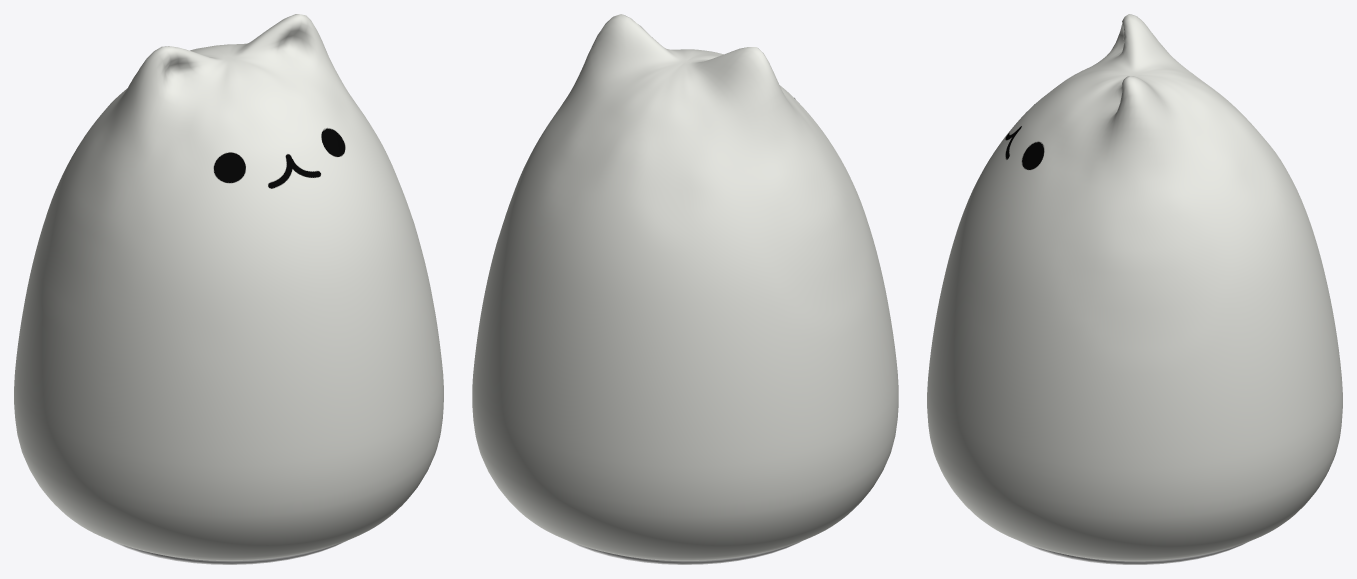
Rendered from cat.glb.
3 views of the same model, side by side, from view 1: azimuth 30°, elevation 25°; view 2: azimuth 150°, elevation 25°; view 3: azimuth 270°, elevation 25° (orthographic). The views are drawn at different scales.
Parts seen in each view (by area): view 1: Body, Base; view 2: Body, Base; view 3: Body, Base.
Boxes of the visible parts, x1,y1,x2,y2 form: Body: (14,14,443,560); Base: (112,540,347,564); Body: (472,14,898,560); Base: (568,541,801,564); Body: (927,14,1342,561); Base: (1022,542,1247,564).
Bounding box in the file's own units: 3.95 × 4.83 × 3.95.
4 materials, 4 textured.
